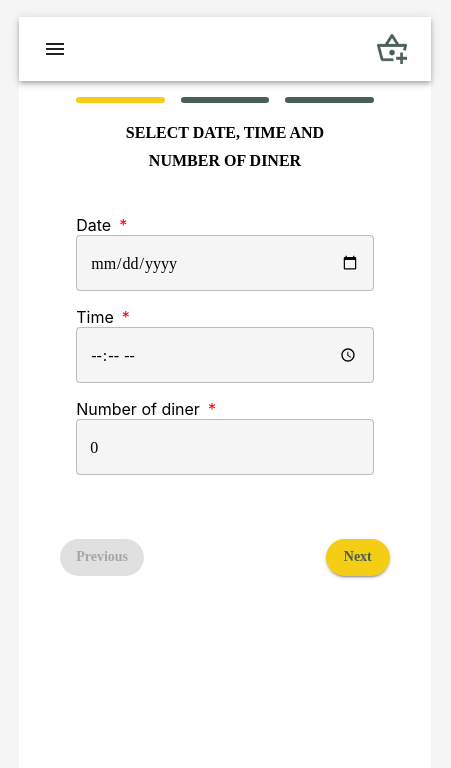
Is exist the title <Details> when click on button Next
The width and height of the screenshot is (451, 768).
Click the button "Next" at (358, 557), box top-left (326, 539), bottom-right (390, 576)
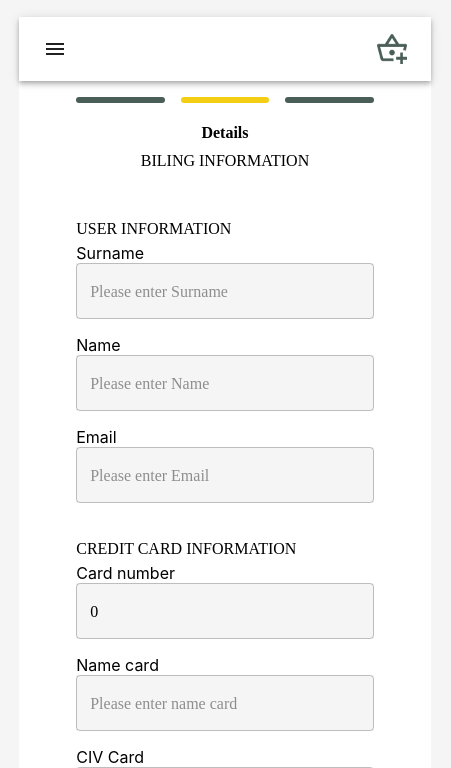
Check: the heading "Details" is shown, box top-left (201, 124), bottom-right (248, 141)
